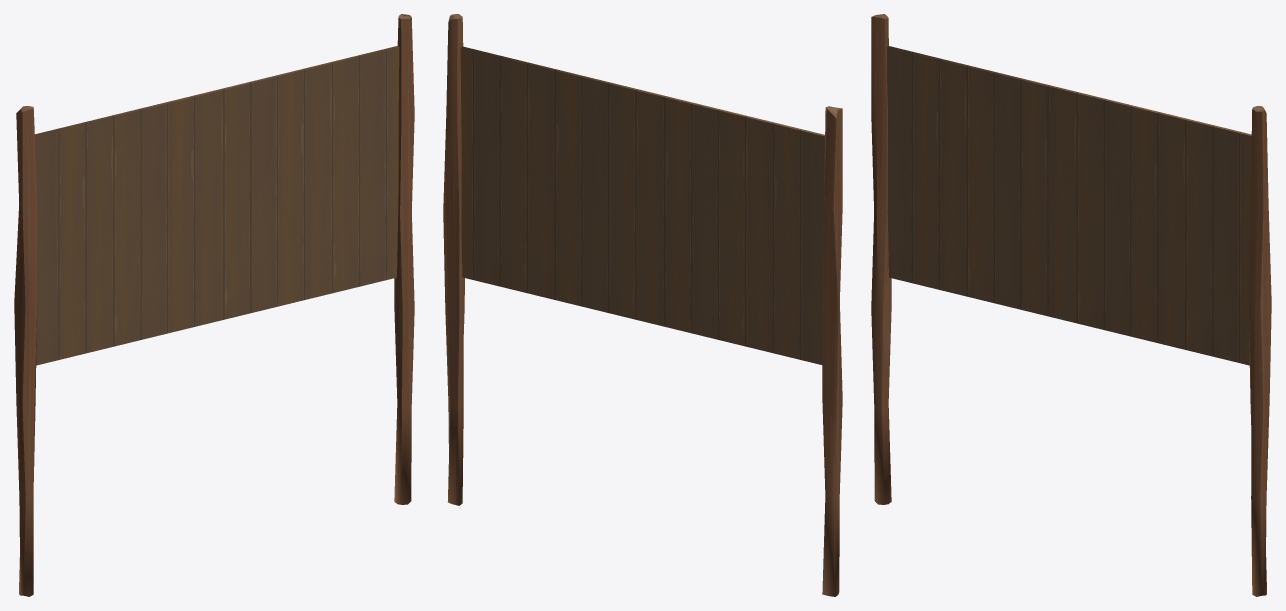
The model's file is frufru2-corrigido.fbx.
The picture shows the model from 3 angles, left to right: view 1: azimuth 30°, elevation 25°; view 2: azimuth 150°, elevation 25°; view 3: azimuth 330°, elevation 25°; orthographic projection.
Parts seen in each view (by area): view 1: Placa-de-aviso; view 2: Placa-de-aviso; view 3: Placa-de-aviso.
Boxes of the visible parts, <box> form: Placa-de-aviso: <box>14,14,414,596</box>; Placa-de-aviso: <box>443,14,842,596</box>; Placa-de-aviso: <box>871,14,1271,596</box>.
Size of the model in its own units: 138 by 162 by 5.1.
